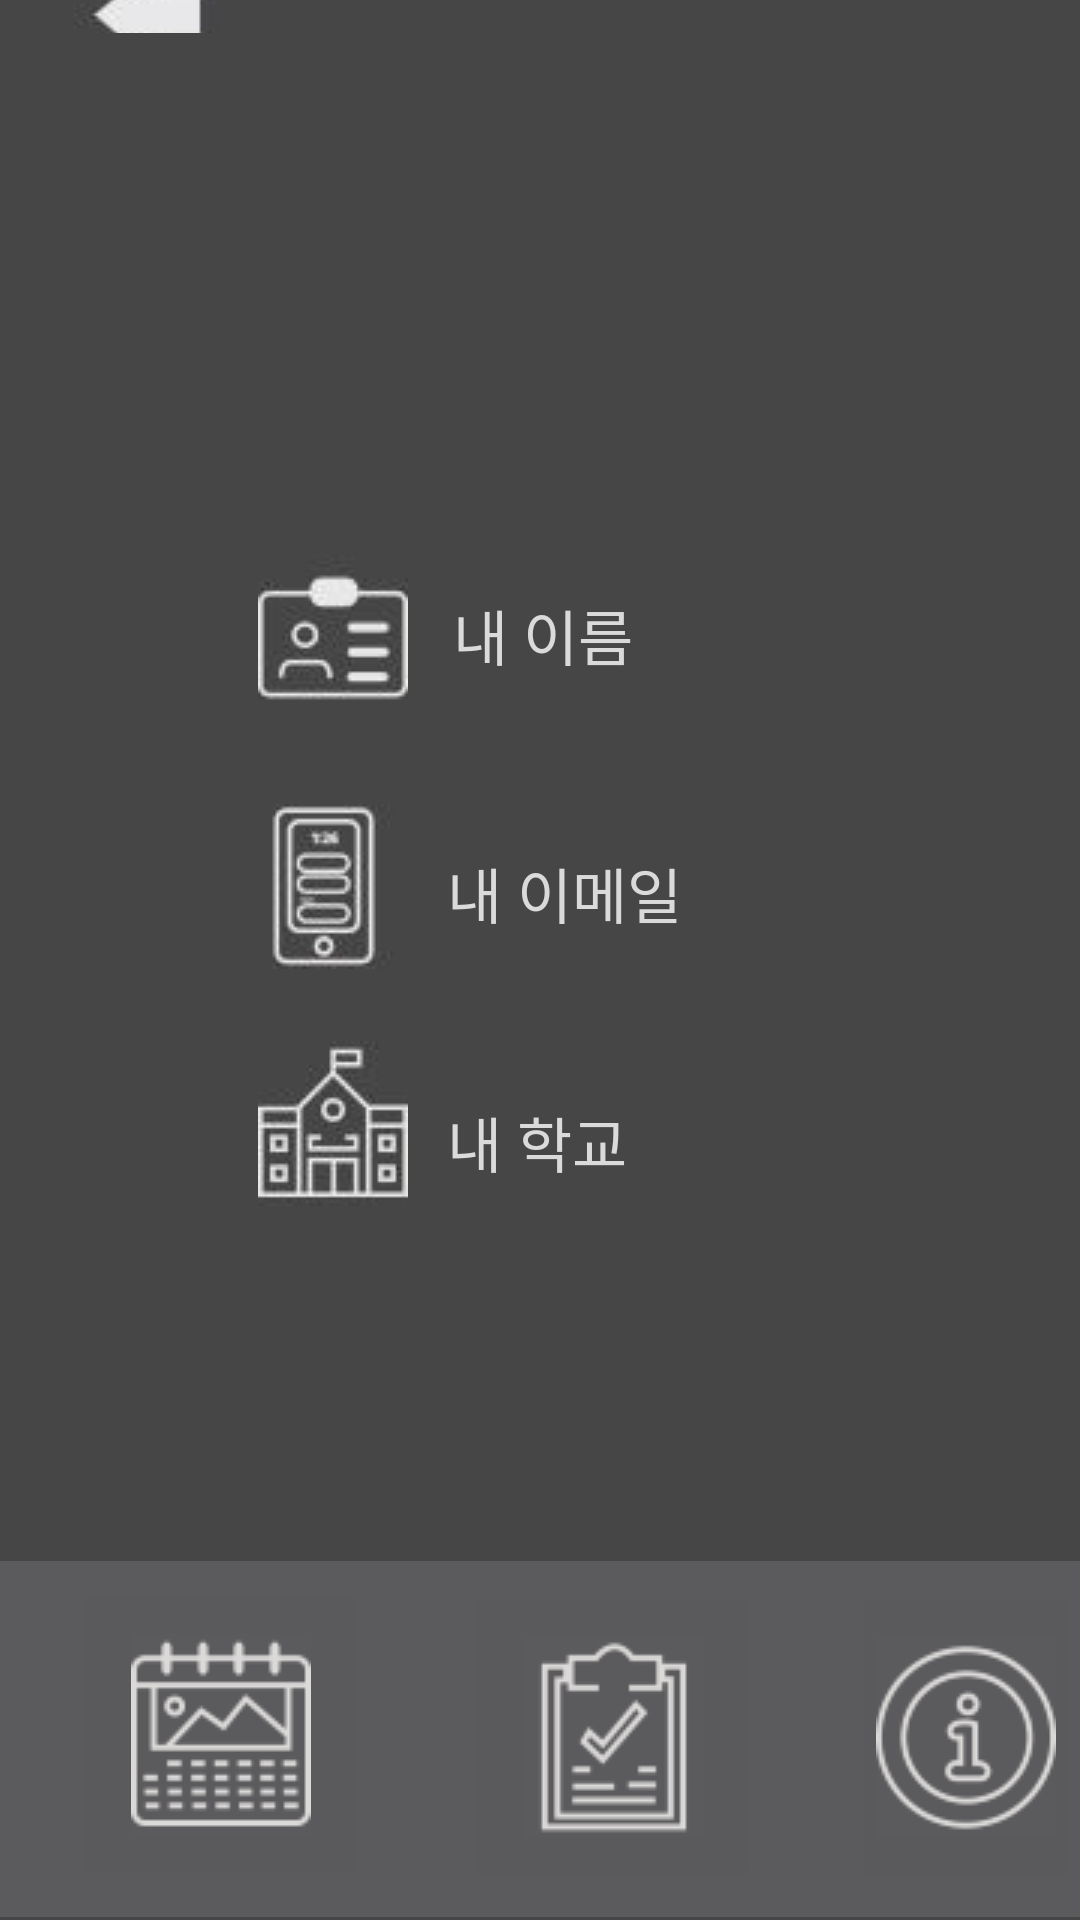

Icons on this 1080*1920 Android screen, each with the point to tap as [x,y]:
cal: [221,1734]
doc: [614,1737]
scho: [333,1122]
